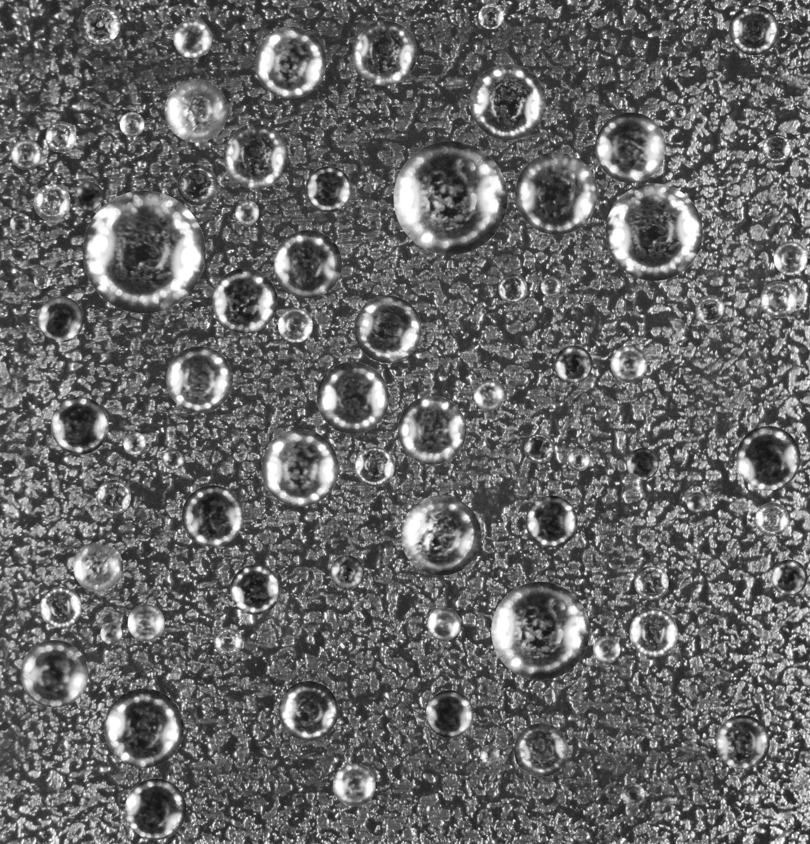Bubble: (82, 190, 205, 313), (393, 141, 507, 254), (491, 581, 589, 680), (605, 183, 702, 280), (515, 152, 597, 234), (401, 495, 481, 575), (104, 688, 183, 767), (261, 429, 338, 506), (470, 64, 546, 140), (254, 26, 326, 98), (316, 361, 388, 433), (595, 112, 665, 182), (397, 396, 466, 464), (273, 230, 341, 298), (20, 640, 88, 707), (354, 295, 421, 362), (166, 346, 232, 412), (223, 123, 288, 188), (212, 268, 277, 333), (352, 20, 417, 85), (736, 426, 800, 490), (164, 79, 227, 142), (181, 485, 243, 546), (125, 778, 186, 839), (278, 681, 338, 740), (50, 396, 108, 454), (514, 723, 568, 777), (715, 715, 769, 769), (525, 495, 577, 547), (729, 5, 779, 55), (230, 564, 280, 614), (73, 542, 122, 591), (629, 608, 677, 657), (425, 690, 473, 737), (37, 296, 83, 342), (305, 166, 351, 212), (332, 763, 375, 806), (39, 586, 81, 628), (78, 3, 120, 44), (177, 164, 217, 205), (355, 447, 394, 486), (173, 19, 212, 57), (554, 345, 592, 383), (127, 604, 164, 641), (760, 281, 797, 318), (610, 346, 647, 382), (33, 184, 70, 220), (771, 559, 807, 595), (96, 479, 130, 514), (278, 307, 312, 342), (773, 241, 807, 275), (634, 565, 668, 599), (755, 502, 789, 536), (330, 555, 364, 589), (427, 607, 460, 640), (626, 448, 658, 480), (45, 121, 76, 152), (473, 380, 504, 410), (695, 295, 725, 325), (11, 139, 41, 169), (524, 433, 553, 463), (762, 134, 791, 163), (498, 274, 527, 303), (74, 181, 103, 210), (213, 627, 242, 656), (593, 636, 620, 663), (478, 3, 504, 29), (119, 112, 144, 136), (235, 200, 259, 224), (622, 783, 645, 806), (123, 432, 146, 455), (567, 448, 590, 471), (100, 622, 122, 644), (162, 448, 184, 469), (540, 276, 561, 296), (686, 492, 706, 512), (10, 213, 30, 233), (480, 745, 499, 764), (33, 272, 50, 288), (670, 104, 686, 120)
